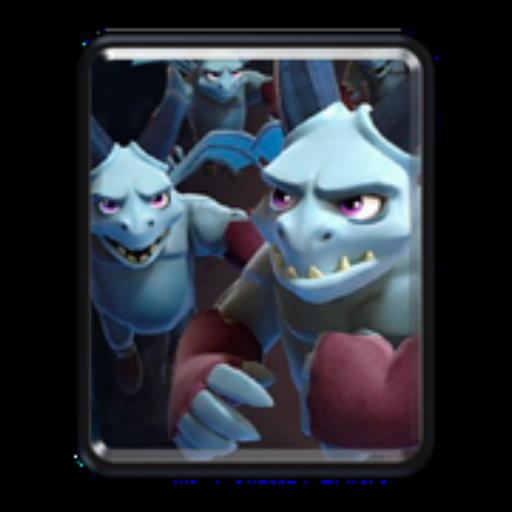minion-horde: (88, 51, 416, 455)
